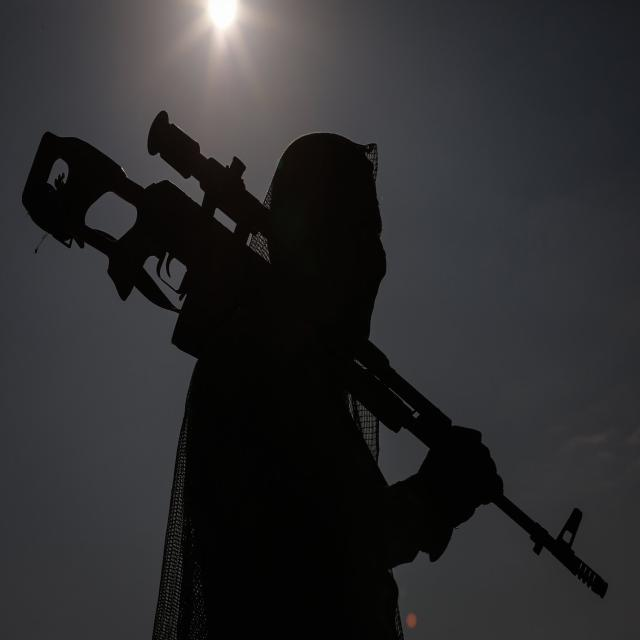Militant: (22, 50, 627, 640)
